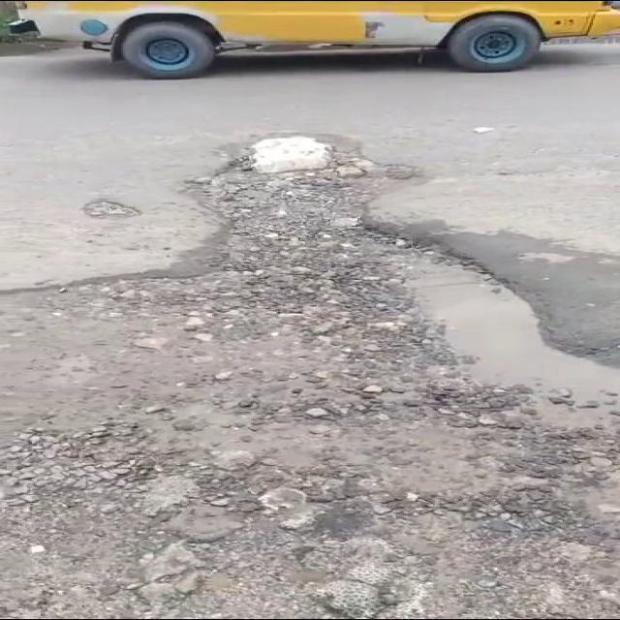lubang: (0, 169, 619, 615), (84, 198, 140, 219)
